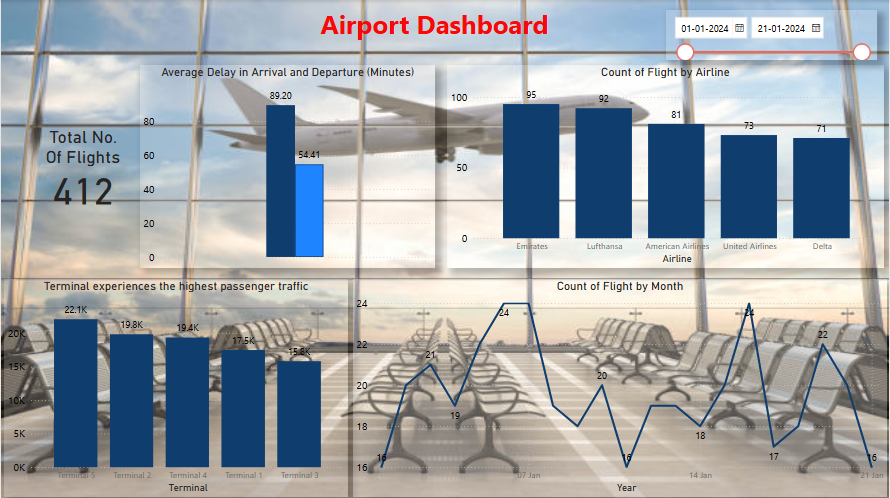

The page's visual inventory and layout, read from the dashboard file:
{"tool":"powerbi","page":{"name":"Page 1","canvas":[1280,720],"ordinal":0},"visuals":[{"type":"columnChart","title":"Count of Flight by Airline","fields":{"Category":["Airport_Authority_Data_Analysis.Airline"],"Y":["CountNonNull(Airport_Authority_Data_Analysis.Flight ID)"]},"box":[642.2,93.6,629.3,292.3],"z":0},{"type":"clusteredColumnChart","title":"Terminal experiences the highest passenger traffic","fields":{"Category":["Airport_Authority_Data_Analysis.Terminal"],"Y":["Sum(Airport_Authority_Data_Analysis.Passenger Count)"]},"box":[4.3,401.8,495.4,313.9],"z":1000},{"type":"card","title":"Total No. Of Flights","fields":{"Values":["CountNonNull(Airport_Authority_Data_Analysis.Flight ID)"]},"box":[50.4,181.4,135.4,118.1],"z":2000},{"type":"lineChart","title":"Count of Flight by Month ","fields":{"Y":["CountNonNull(Airport_Authority_Data_Analysis.Flight ID)"],"Category":["Airport_Authority_Data_Analysis.Flight Date.Variation.Date Hierarchy.Year","Airport_Authority_Data_Analysis.Flight Date.Variation.Date Hierarchy.Month","Airport_Authority_Data_Analysis.Flight Date.Variation.Date Hierarchy.Day"]},"box":[506.9,401.8,769,313.9],"z":3000},{"type":"clusteredColumnChart","title":"Average Delay in Arrival and Departure (Minutes)","fields":{"Y":["Avg(Airport_Authority_Data_Analysis.Arrival Delay (Minutes))","Avg(Airport_Authority_Data_Analysis.Departure Delay (Minutes))"]},"box":[200.2,93.6,424.8,292.3],"z":4000},{"type":"textbox","box":[440,4.3,367.1,67.1],"z":5000},{"type":"slicer","fields":{"Values":["Airport_Authority_Data_Analysis.Flight Date"]},"box":[957.6,14.4,303.8,72],"z":6000}]}

Visuals, with their boxes in screenshot pixels (x1, y1, x2, y2), scaled from the page's 1280x720 canvas onto the 890x498 screenshot:
"Count of Flight by Airline" columnChart: Rect(447, 65, 884, 267)
"Terminal experiences the highest passenger traffic" clusteredColumnChart: Rect(3, 278, 347, 495)
"Total No. Of Flights" card: Rect(35, 125, 129, 207)
"Count of Flight by Month " lineChart: Rect(352, 278, 887, 495)
"Average Delay in Arrival and Departure (Minutes)" clusteredColumnChart: Rect(139, 65, 435, 267)
textbox: Rect(306, 3, 561, 49)
slicer - Airport_Authority_Data_Analysis.Flight Date: Rect(666, 10, 877, 60)
